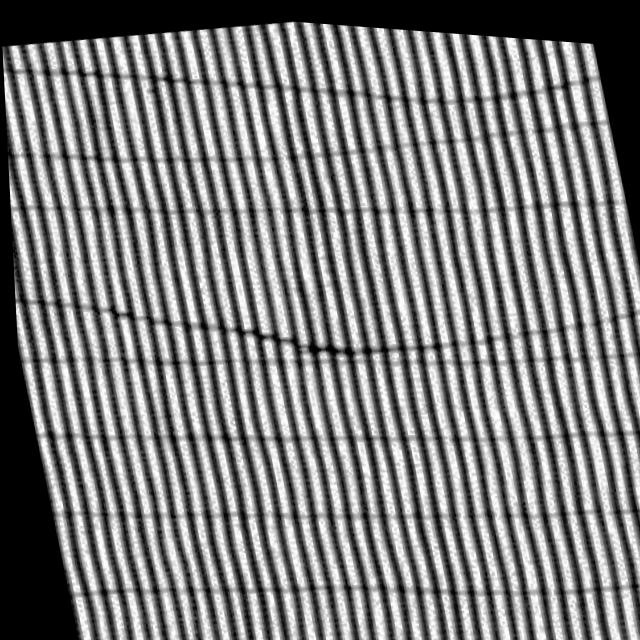Stitch: (99, 226, 507, 449)
